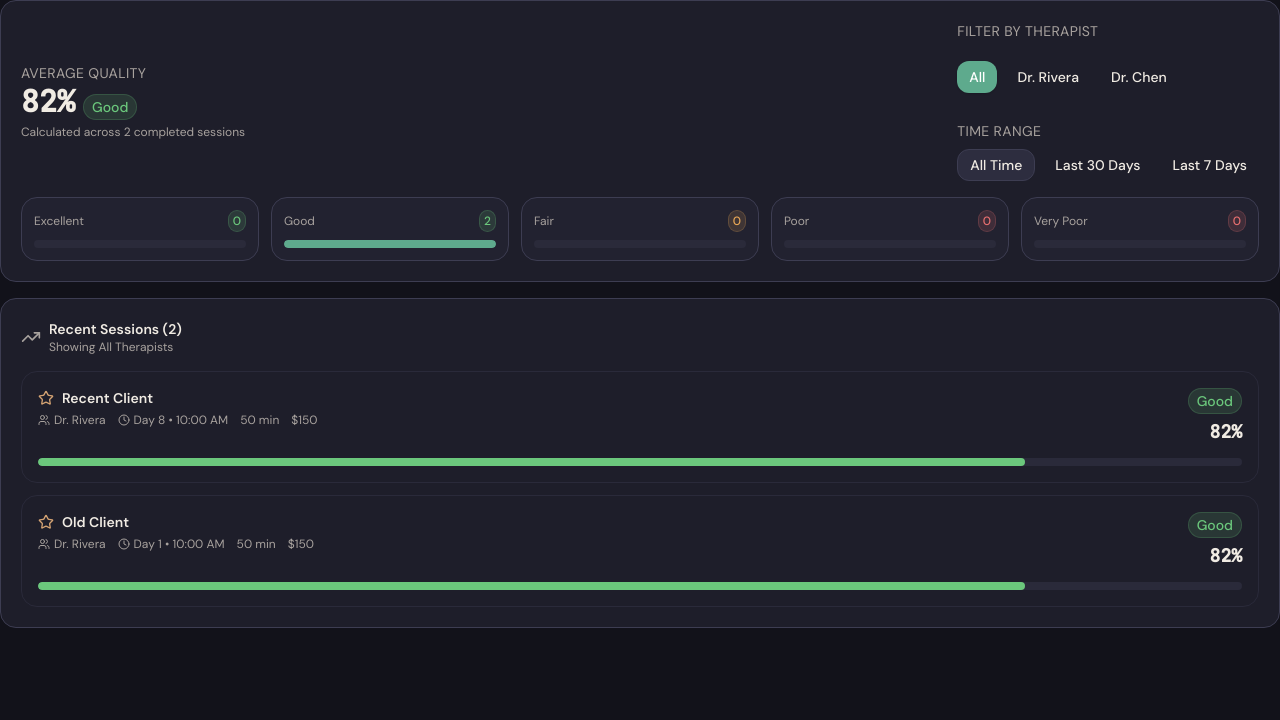
Test: SessionHistoryPanel › time range filtering › filters to last 7 days correctly
Expected: the text "Recent Client" is shown, [62,388,153,408]
Expected: the text "Old Client" is shown, [62,512,129,532]
Click the button "Last 7 Days". click: (1210, 165)
box: [1160,149,1259,181]
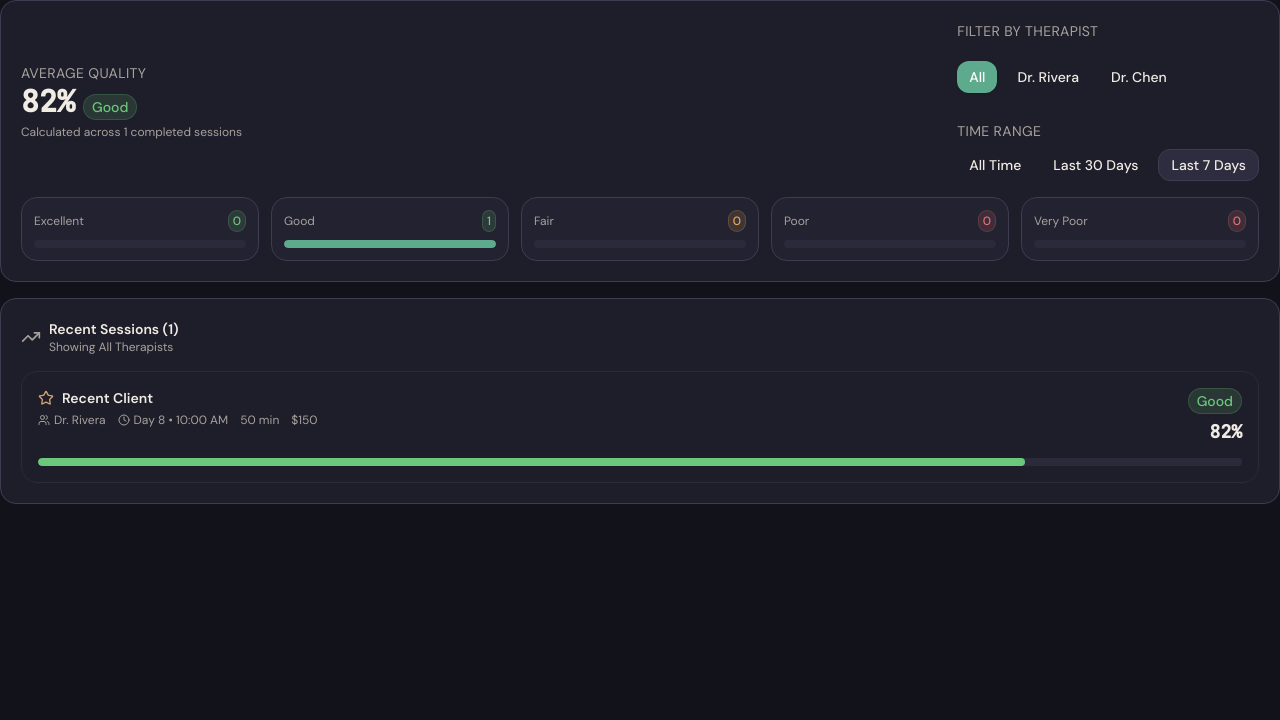
Expected: the text "Recent Client" is shown, [62,388,153,408]
Now the text "Old Client" is gone
